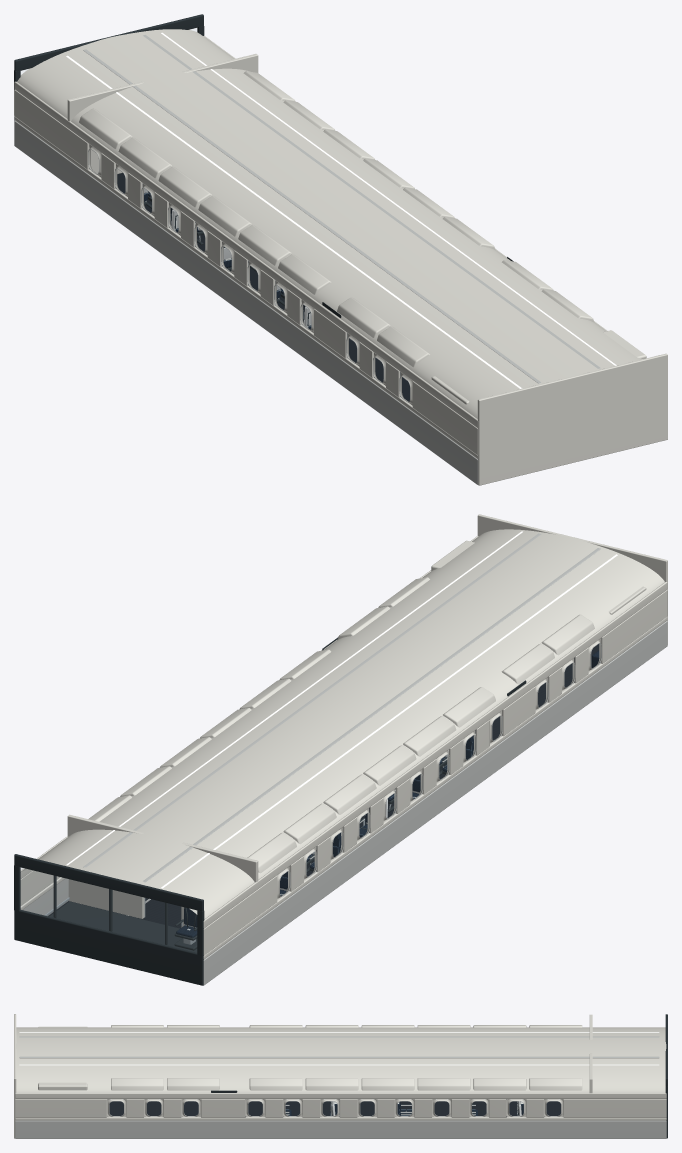
The model's file is aircraft-cabin.glb.
The picture shows the model from 3 angles, top to bottom: view 1: azimuth 30°, elevation 25°; view 2: azimuth 150°, elevation 25°; view 3: azimuth 270°, elevation 25°; orthographic projection. The views are drawn at different scales.
Visible parts, largest first — view 1: cabin_ivory_satin_static, cabin_warm_panel_static, cabin_emissive_static, cabin_charcoal_trim_static, cabin_aisle_woven_carpet_static; view 2: cabin_ivory_satin_static, cabin_warm_panel_static, cabin_charcoal_trim_static, cabin_window_daylight_static, cabin_emissive_static, cabin_aisle_woven_carpet_static, cabin_navy_woven_fabric_static; view 3: cabin_ivory_satin_static, cabin_warm_panel_static, cabin_aisle_woven_carpet_static, cabin_emissive_static, cabin_charcoal_trim_static, cabin_seat_back_shell_static, cabin_navy_woven_fabric_static.
Boxes of the visible parts, box(x1,y1,x2,y2) form: cabin_ivory_satin_static: box(14, 29, 667, 485); cabin_warm_panel_static: box(14, 35, 600, 484); cabin_emissive_static: box(66, 32, 616, 388); cabin_charcoal_trim_static: box(14, 14, 513, 337); cabin_aisle_woven_carpet_static: box(115, 173, 409, 401); cabin_ivory_satin_static: box(20, 514, 667, 959); cabin_warm_panel_static: box(23, 533, 667, 985); cabin_charcoal_trim_static: box(14, 637, 526, 985); cabin_window_daylight_static: box(21, 868, 196, 951); cabin_emissive_static: box(66, 531, 617, 915); cabin_aisle_woven_carpet_static: box(48, 644, 599, 985); cabin_navy_woven_fabric_static: box(176, 650, 600, 937); cabin_ivory_satin_static: box(14, 1014, 666, 1138); cabin_warm_panel_static: box(15, 1036, 666, 1138); cabin_aisle_woven_carpet_static: box(109, 1099, 560, 1116); cabin_emissive_static: box(19, 1032, 659, 1065); cabin_charcoal_trim_static: box(211, 1014, 667, 1138); cabin_seat_back_shell_static: box(110, 1099, 559, 1115); cabin_navy_woven_fabric_static: box(285, 1101, 523, 1116).
Size of the model in its own units: 7.5 by 3.2 by 31.57.
15 materials, 2 textured.
